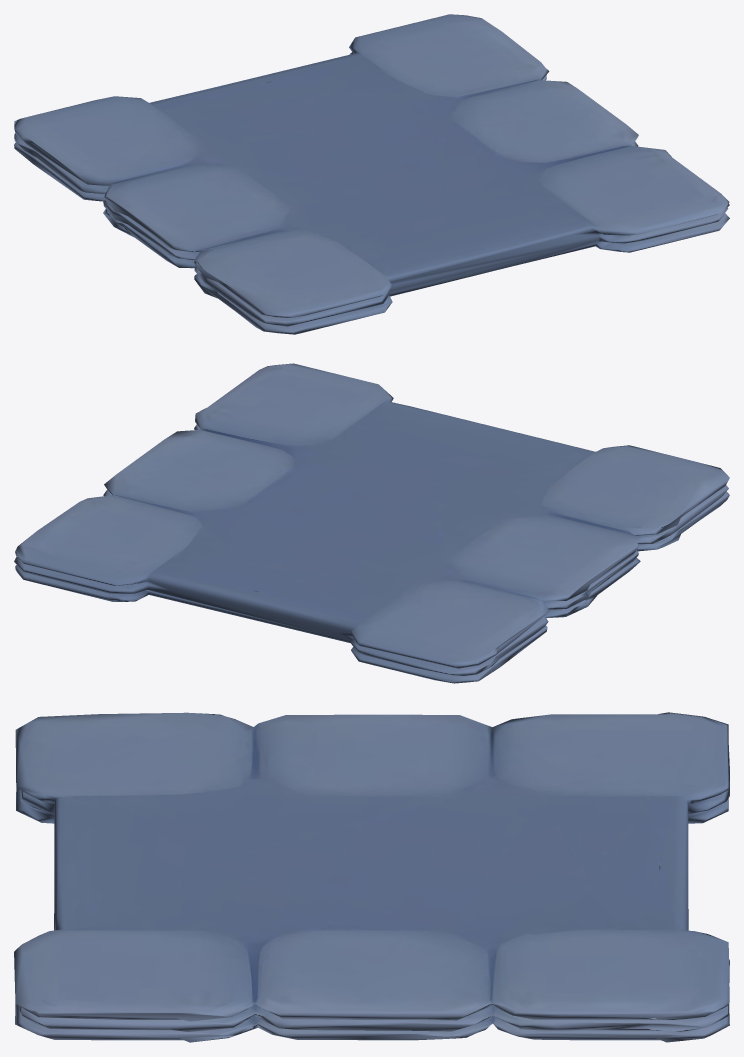
File: camp_floor-BrVZYgDE.glb
The picture shows the model from 3 angles, top to bottom: view 1: azimuth 30°, elevation 25°; view 2: azimuth 150°, elevation 25°; view 3: azimuth 270°, elevation 25°; orthographic projection. The views are drawn at different scales.
Visible parts, largest first — view 1: tripo_node_3169ae4c-d923-48a5-9f82-911dd3d2c379; view 2: tripo_node_3169ae4c-d923-48a5-9f82-911dd3d2c379; view 3: tripo_node_3169ae4c-d923-48a5-9f82-911dd3d2c379.
Boxes of the visible parts, left/top/right/bottom form: tripo_node_3169ae4c-d923-48a5-9f82-911dd3d2c379: left=14, top=14, right=729, bottom=334; tripo_node_3169ae4c-d923-48a5-9f82-911dd3d2c379: left=14, top=363, right=729, bottom=683; tripo_node_3169ae4c-d923-48a5-9f82-911dd3d2c379: left=14, top=712, right=729, bottom=1042.
Size of the model in its own units: 4.12 by 0.1992 by 4.1.
Materials: 1 (1 with a texture image).
